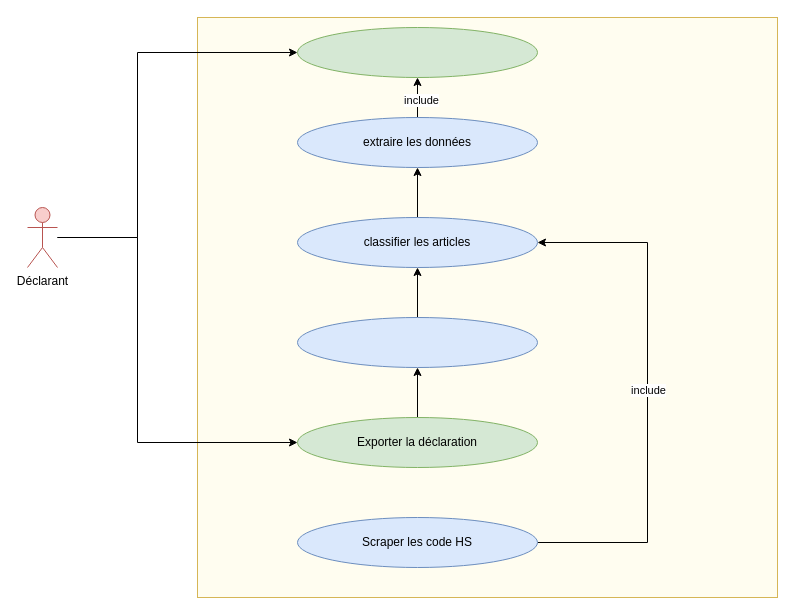
The diagram is 795 pixels wide and 615 high, and some of its shapes have lost their labels. The box of each missing label's shape, as (x1, y1, x2, y2) in pixels:
Importer facture: (296, 26, 538, 78)
Ventiller les données: (296, 316, 538, 368)
